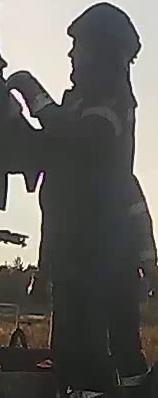gloves: (4, 68, 54, 116)
vest: (38, 79, 157, 267)
